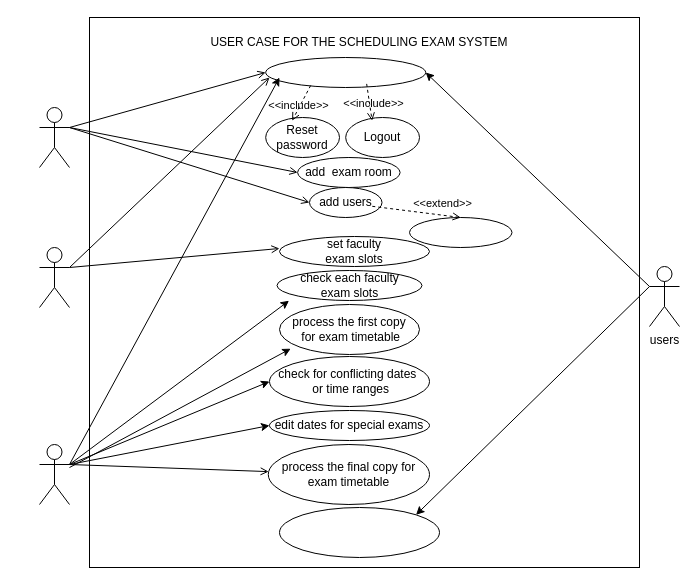
This 697x585 diagram has some shape labels left out. The shapes that lost their labels are listed below. From the top down, each one's box as (x1, y1, x2, y2) in pixels, then its label:
(265, 56, 426, 88): Login
(38, 106, 70, 168): Admin
(408, 216, 512, 248): assign role
(38, 246, 70, 308): Faculty Admin
(38, 444, 70, 504): Exam officer
(278, 506, 440, 558): retrieve individual exam timetable
